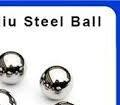ironball: (38, 64, 76, 100), (0, 50, 28, 82), (0, 86, 20, 104), (48, 101, 87, 104)
